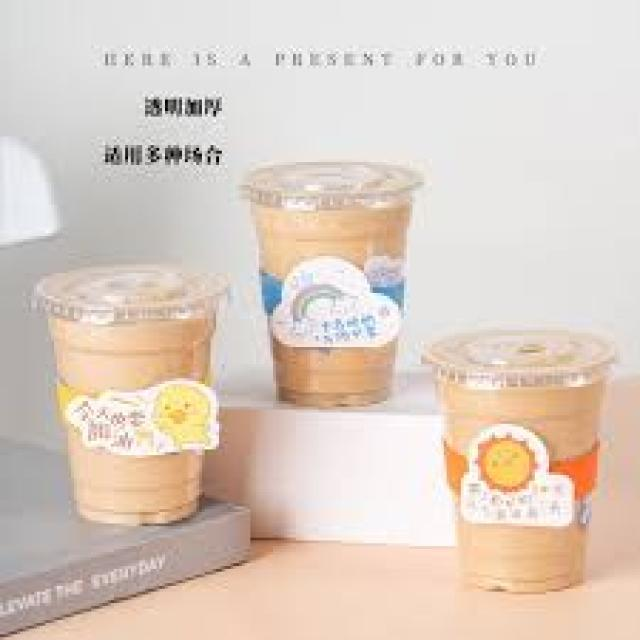bottle: (32, 266, 226, 524), (425, 329, 614, 592), (246, 165, 422, 407)
